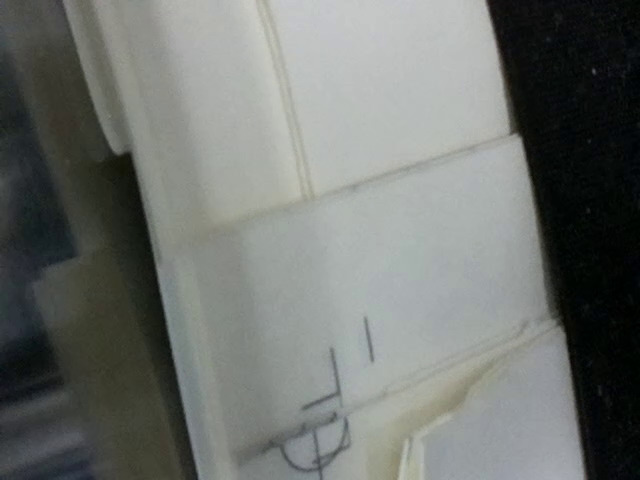misaligned: (232, 350, 360, 478)
